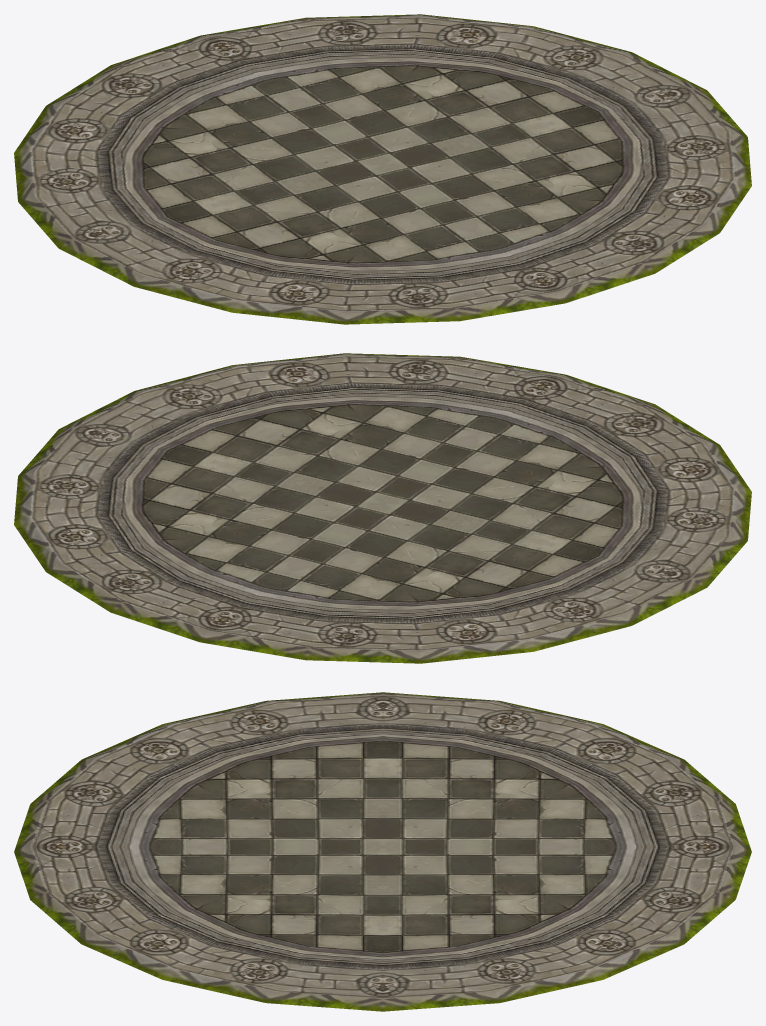
The model's file is DN_BigRoom_part_a.FBX.
3 renders of one model, top to bottom at view 1: azimuth 30°, elevation 25°; view 2: azimuth 150°, elevation 25°; view 3: azimuth 270°, elevation 25°, orthographic.
Visible parts, largest first — view 1: DN_BigRoom_part_a; view 2: DN_BigRoom_part_a; view 3: DN_BigRoom_part_a.
Part boxes in pixels (<box>): DN_BigRoom_part_a: <box>14,14,751,324</box>; DN_BigRoom_part_a: <box>14,353,751,663</box>; DN_BigRoom_part_a: <box>14,692,751,1011</box>.
Bounding box in the file's own units: 2567 × 19.36 × 2506.
